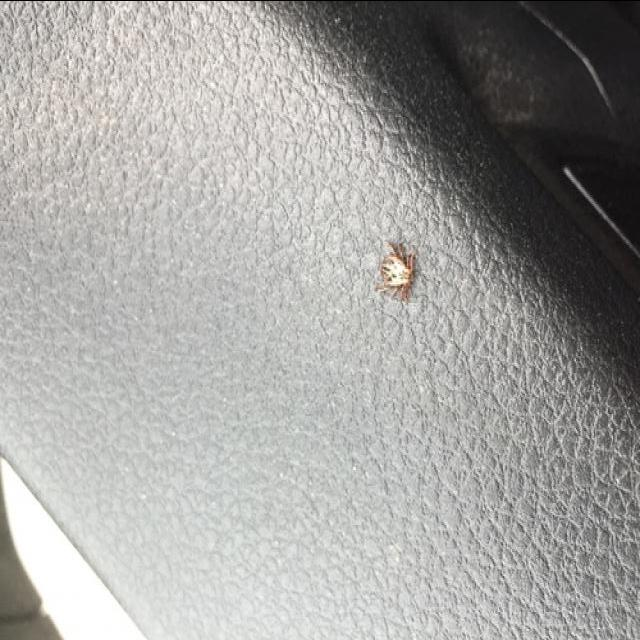Dermacentor Reticulatus-M: (366, 237, 420, 304)
